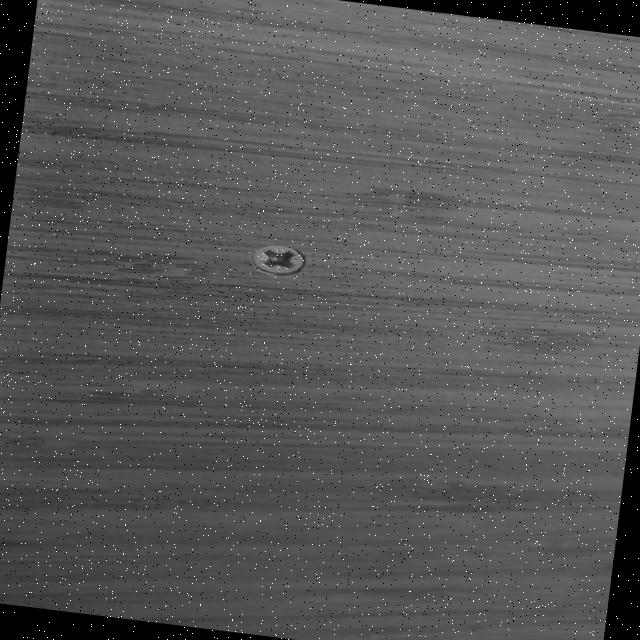Pozidriv: (248, 239, 308, 280)
